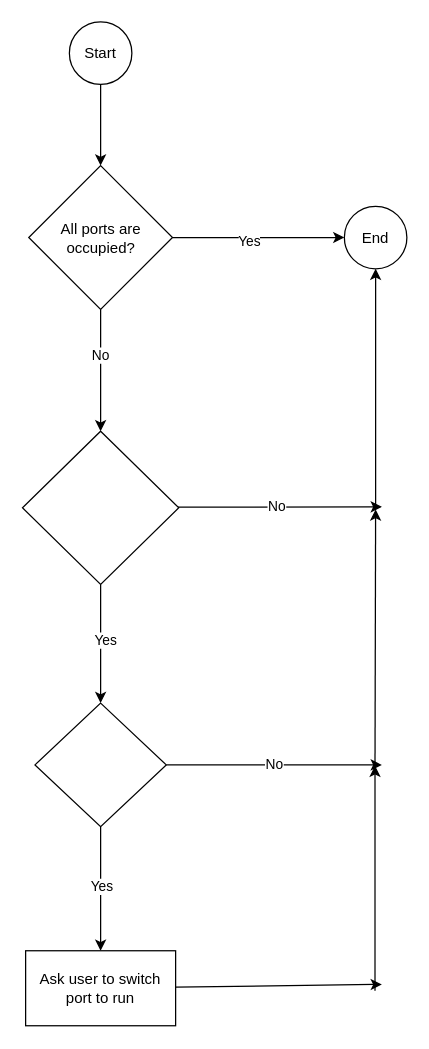
Some shapes in this 429 by 1049 pixel diagram are drawn without their labels. Each missing label, with the centre of its shape:
Is default port occupied?: pixel 100 507
Is interactive?: pixel 100 764
